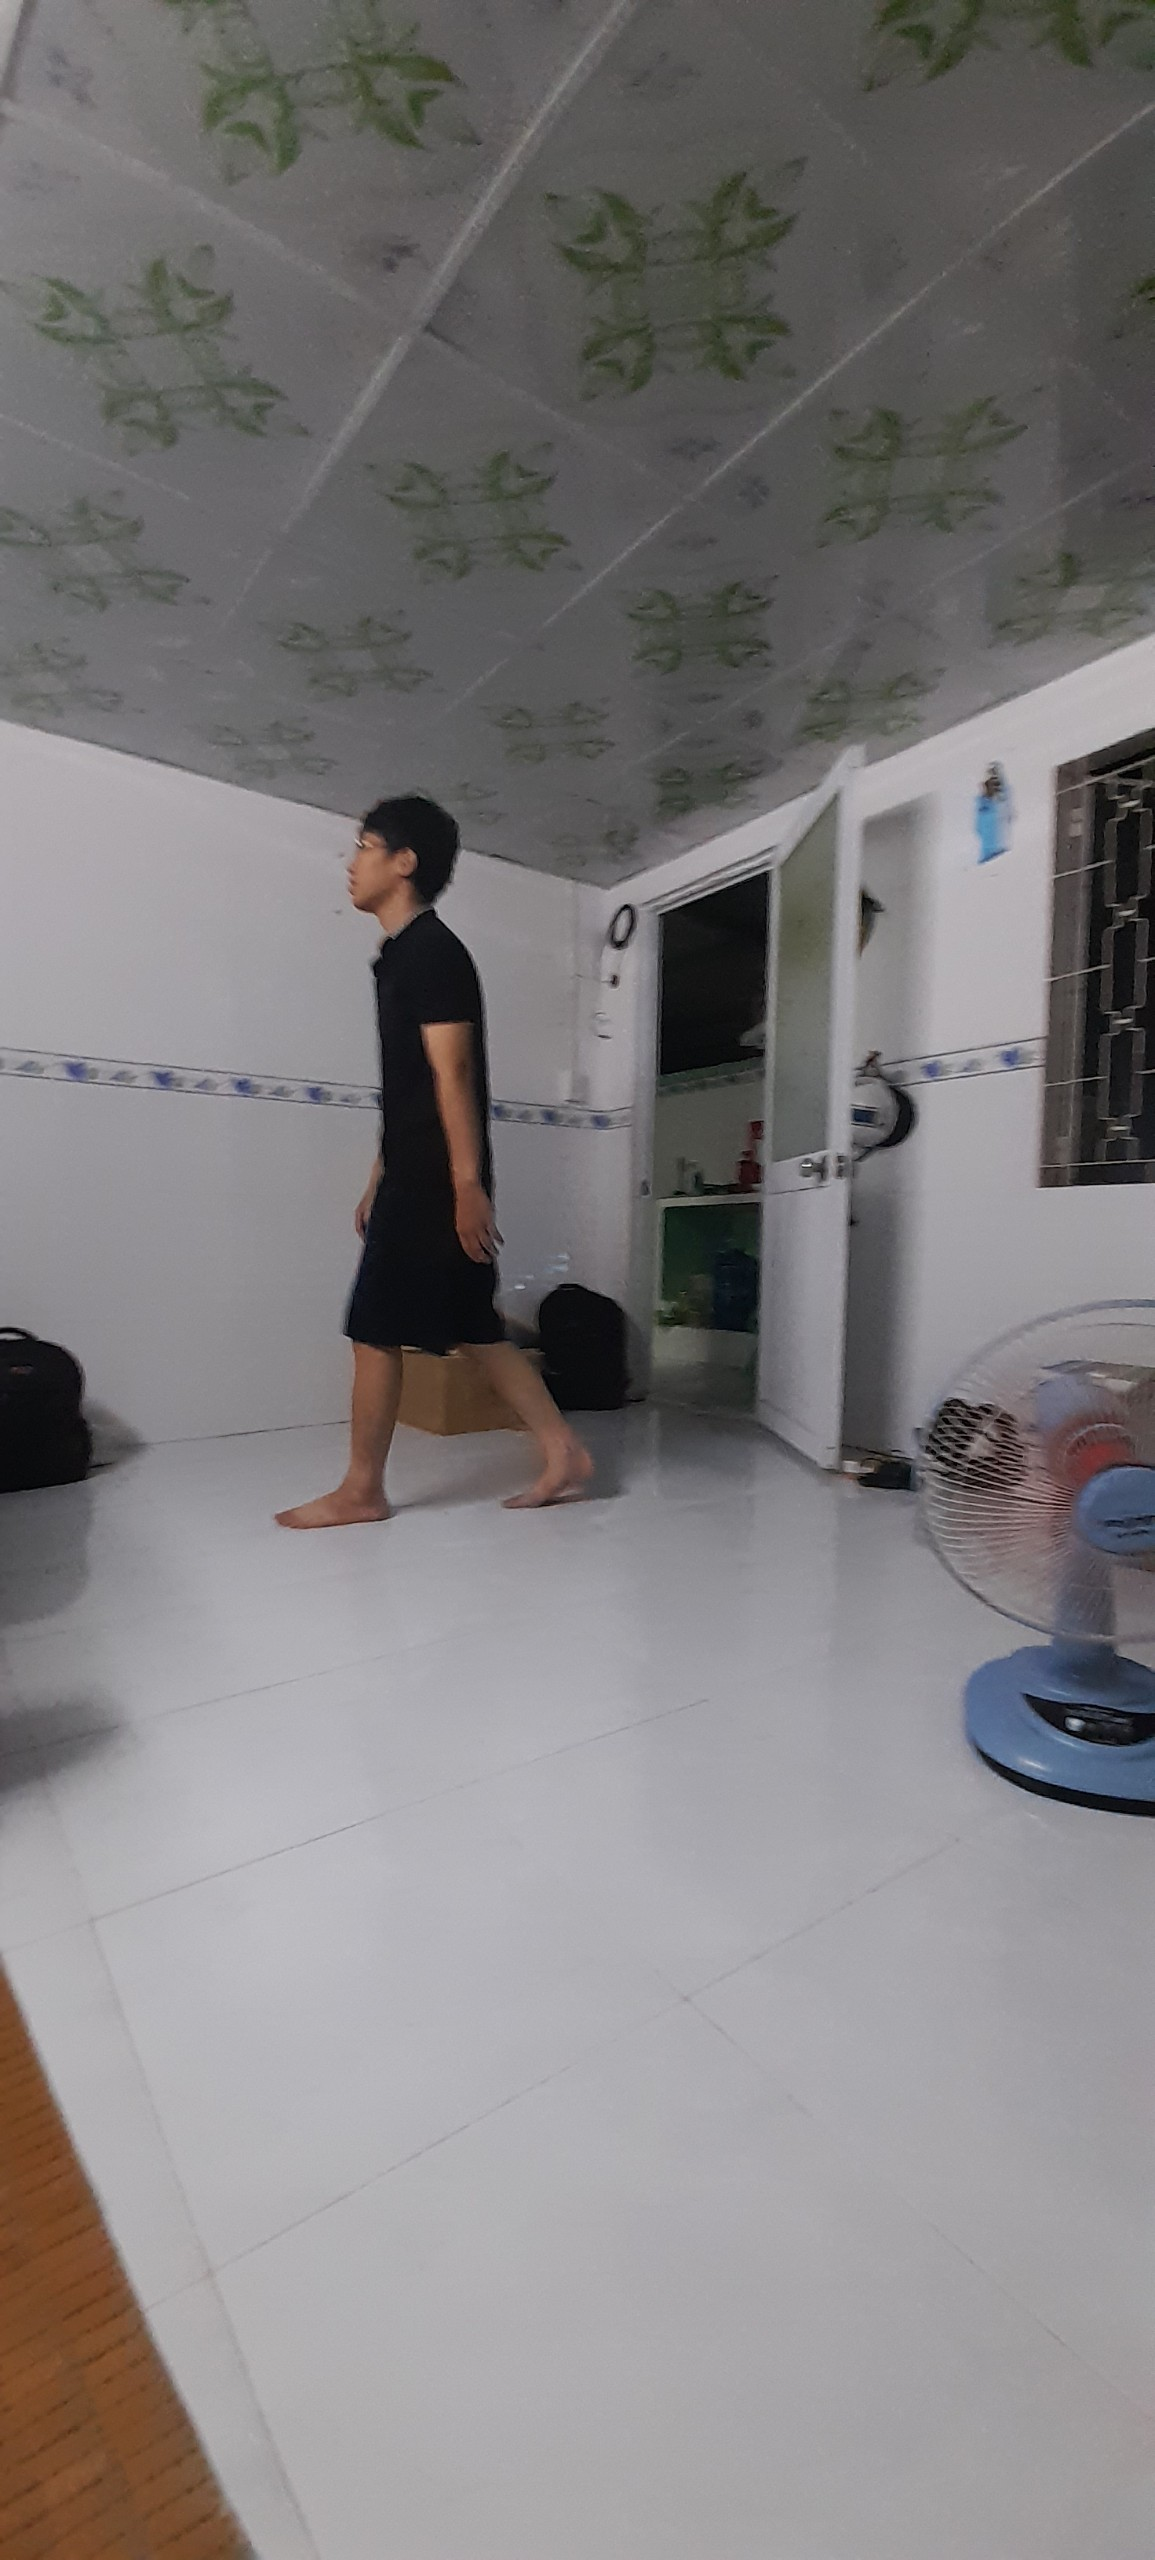person: (289, 793, 578, 1517)
